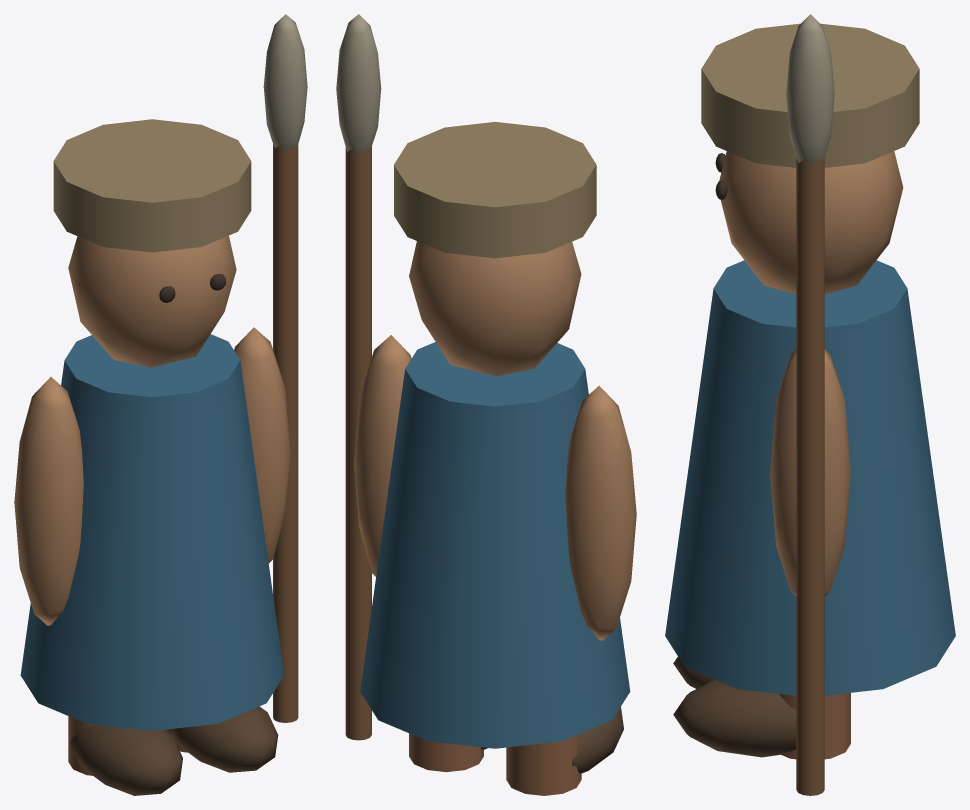
Rendered from resident-belu.glb.
3 renders of one model, left to right at view 1: azimuth 30°, elevation 25°; view 2: azimuth 150°, elevation 25°; view 3: azimuth 270°, elevation 25°, orthographic. The views are drawn at different scales.
Parts seen in each view (by area): view 1: resident-belu; view 2: resident-belu; view 3: resident-belu.
Part boxes in pixels (x1=…): resident-belu: x1=14, y1=14, x2=307, y2=795; resident-belu: x1=336, y1=14, x2=636, y2=795; resident-belu: x1=665, y1=14, x2=955, y2=795.
Size of the model in its own units: 0.9 by 2.14 by 0.72.
